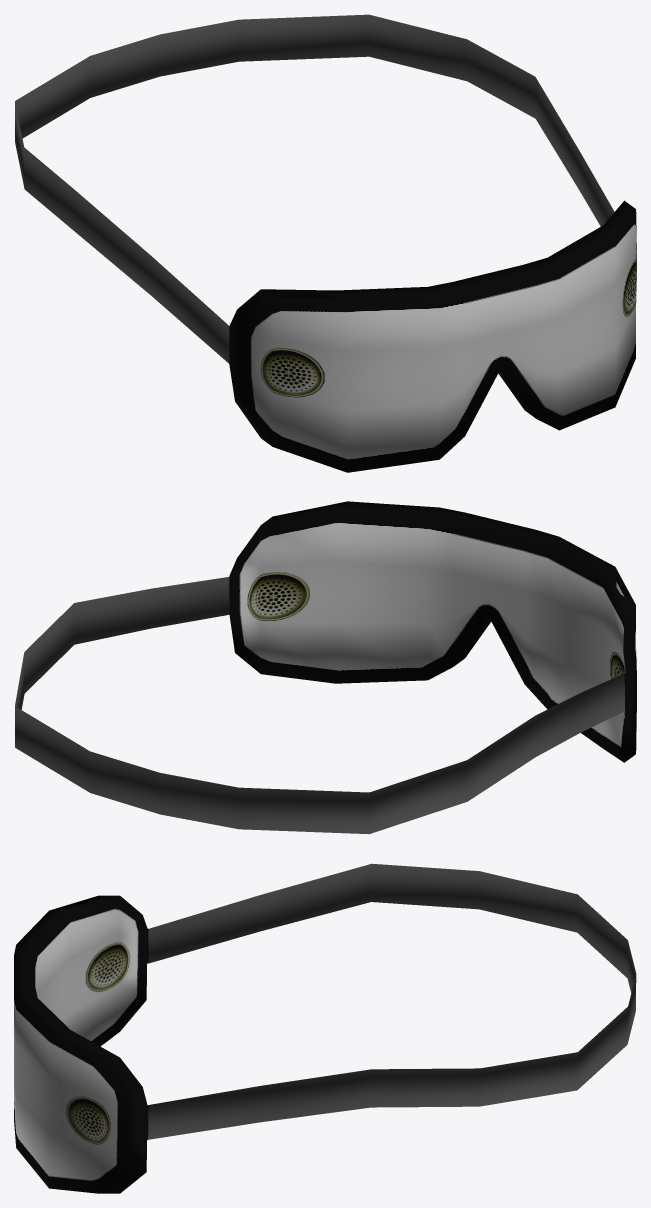
File: BoogieGoggles.fbx
3 renders of one model, top to bottom at view 1: azimuth 30°, elevation 25°; view 2: azimuth 150°, elevation 25°; view 3: azimuth 270°, elevation 25°, orthographic. The views are drawn at different scales.
Visible parts, largest first — view 1: Cube; view 2: Cube; view 3: Cube.
Boxes of the visible parts, x1,y1,x2,y2 form: Cube: (15, 14, 636, 472); Cube: (15, 501, 636, 834); Cube: (14, 863, 636, 1193).
Size of the model in its own units: 0.0416 by 0.1132 by 0.1445.
